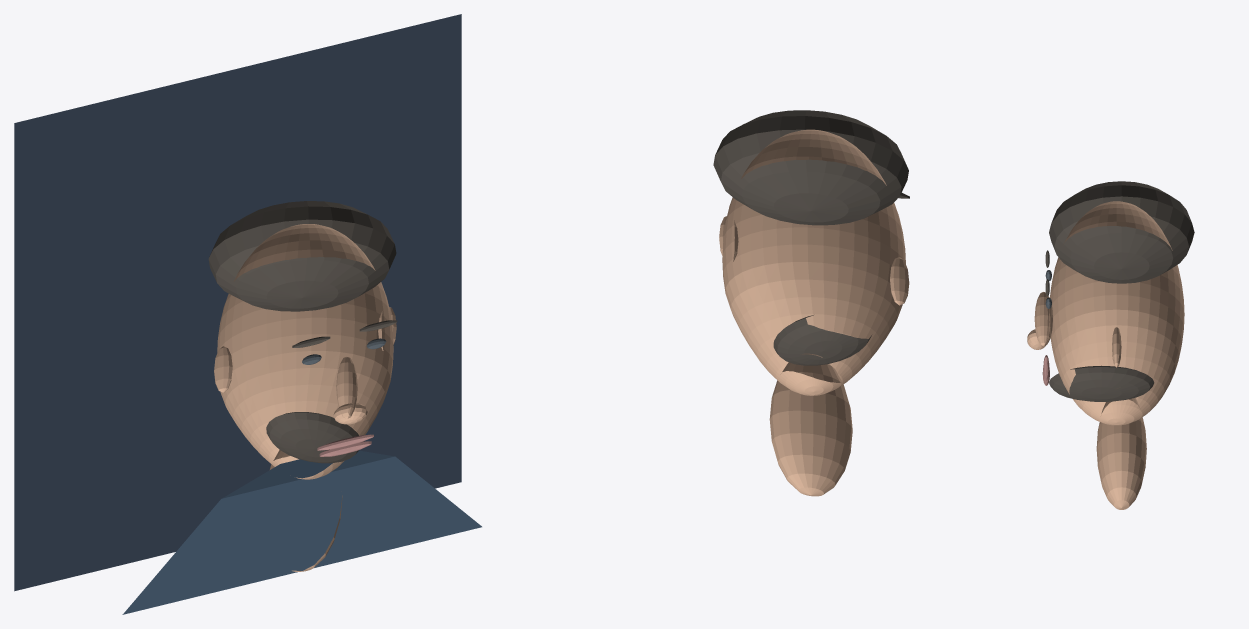
Rendered from gameface_neutral_head_v1.glb.
3 views of the same model, side by side, from view 1: azimuth 30°, elevation 25°; view 2: azimuth 150°, elevation 25°; view 3: azimuth 270°, elevation 25° (orthographic). The views are drawn at different scales.
Parts seen in each view (by area): view 1: portrait_background, jersey_shoulders, morphable_head, hair_cap, facial_hair_shadow, nose_bridge, left_ear; view 2: morphable_head, hair_cap, neck, facial_hair_shadow, left_ear; view 3: morphable_head, hair_cap, neck, facial_hair_shadow, nose_bridge, right_ear.
Boxes of the visible parts, box(x1,y1,x2,y2) form: portrait_background: box(14, 14, 461, 591); jersey_shoulders: box(122, 450, 481, 614); morphable_head: box(217, 224, 393, 479); hair_cap: box(208, 201, 396, 311); facial_hair_shadow: box(266, 412, 358, 463); nose_bridge: box(336, 356, 357, 418); left_ear: box(214, 346, 232, 392); morphable_head: box(722, 129, 905, 395); hair_cap: box(713, 110, 908, 225); neck: box(769, 353, 852, 496); facial_hair_shadow: box(773, 315, 871, 365); left_ear: box(890, 257, 909, 305); morphable_head: box(1049, 201, 1184, 425); hair_cap: box(1049, 181, 1194, 283); neck: box(1096, 388, 1146, 509); facial_hair_shadow: box(1049, 365, 1154, 401); nose_bridge: box(1034, 292, 1052, 345); right_ear: box(1112, 327, 1121, 367).
Size of the model in its own units: 3.6 by 3.6 by 1.65.
